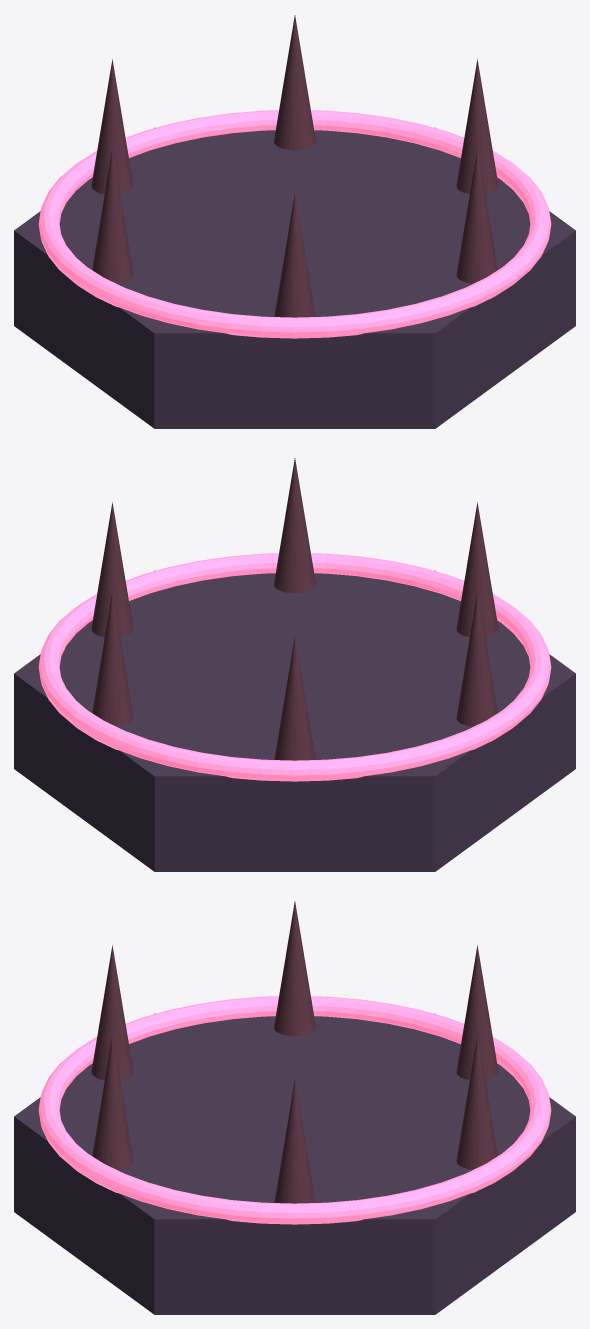
File: villain_pedestal.glb
3 views of the same model, one above another, from view 1: azimuth 30°, elevation 25°; view 2: azimuth 150°, elevation 25°; view 3: azimuth 270°, elevation 25° (orthographic).
Parts seen in each view (by area): view 1: Cylinder, Torus.004, Cone.001, Cone.005, Cone.003, Cone, Cone.002, Cone.004; view 2: Cylinder, Torus.004, Cone.005, Cone.001, Cone.003, Cone, Cone.004, Cone.002; view 3: Cylinder, Torus.004, Cone.003, Cone.001, Cone.005, Cone.002, Cone.004, Cone.
Part boxes in pixels (x1,y1,x2,y2): Cylinder: [14, 127, 575, 428]; Torus.004: [38, 110, 551, 338]; Cone.001: [274, 15, 315, 150]; Cone.005: [456, 148, 497, 283]; Cone.003: [92, 148, 133, 283]; Cone: [456, 59, 498, 193]; Cone.002: [91, 59, 133, 193]; Cone.004: [274, 193, 315, 317]; Cylinder: [14, 570, 575, 871]; Torus.004: [38, 553, 551, 781]; Cone.005: [274, 458, 315, 593]; Cone.001: [92, 591, 133, 726]; Cone.003: [456, 591, 497, 726]; Cone: [91, 502, 133, 636]; Cone.004: [456, 502, 498, 636]; Cone.002: [274, 636, 315, 760]; Cylinder: [14, 1013, 575, 1314]; Torus.004: [38, 996, 551, 1224]; Cone.003: [274, 901, 315, 1036]; Cone.001: [456, 1034, 497, 1169]; Cone.005: [92, 1034, 133, 1169]; Cone.002: [456, 945, 498, 1079]; Cone.004: [91, 945, 133, 1079]; Cone: [274, 1079, 315, 1203].
Size of the model in its own units: 7.3 by 3.5 by 8.
